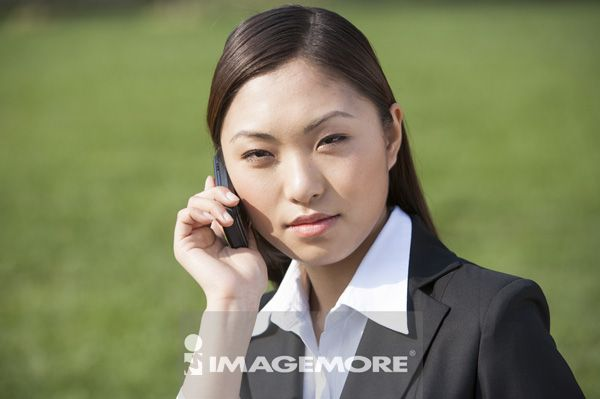phone: (209, 146, 249, 253)
talk: (172, 104, 365, 304)
